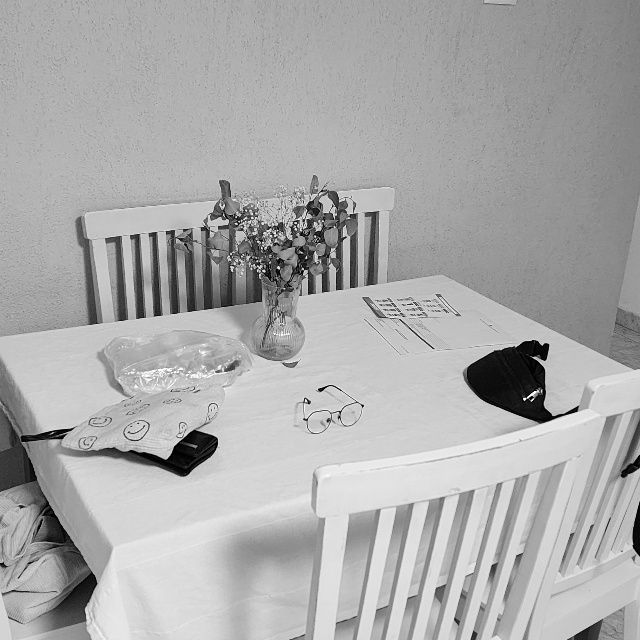glasses: (302, 384, 365, 434)
